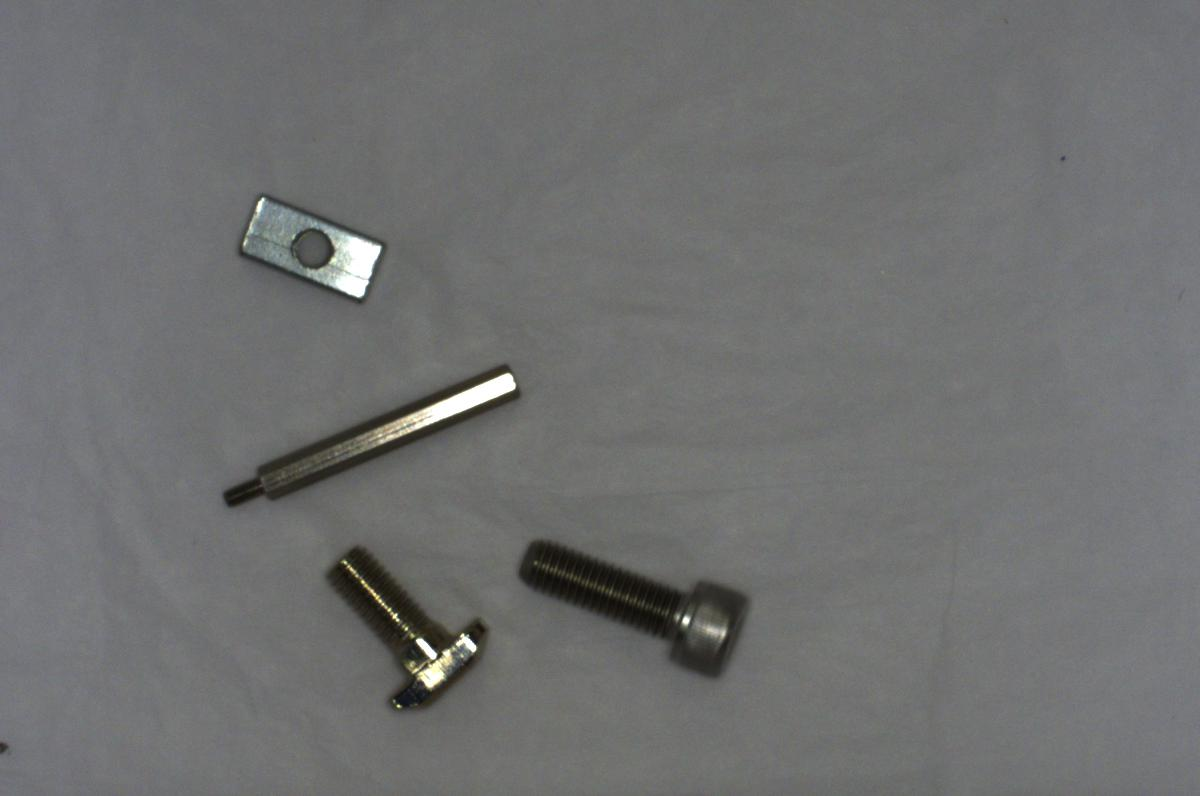Hexagon screw: (510, 526, 752, 678)
Hexagonal steel column: (221, 359, 526, 512)
Rectangular nut: (231, 186, 393, 306)
T-shaped screw: (320, 543, 490, 715)
